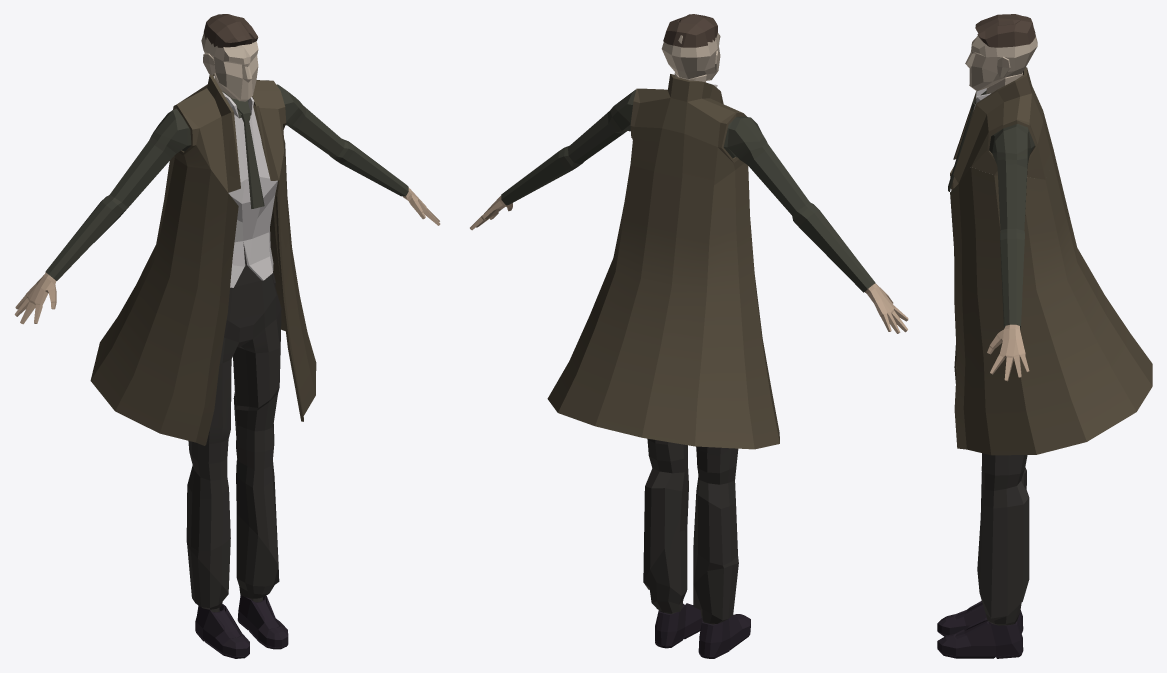
File: detective(lowpoly).fbx
The picture shows the model from 3 angles, left to right: view 1: azimuth 30°, elevation 25°; view 2: azimuth 150°, elevation 25°; view 3: azimuth 270°, elevation 25°; orthographic projection. The views are drawn at different scales.
Parts seen in each view (by area): view 1: polySurface7.001, polySurface3, pCube3, pCube1, pCube4, polySurface1; view 2: polySurface3, polySurface7.001, pCube3, pCube1, pCube4; view 3: polySurface3, polySurface7.001, pCube3, pCube1, pCube4.
Part boxes in pixels (left/top/right/bottom): polySurface7.001: left=14, top=74, right=440, bottom=612; polySurface3: left=90, top=143, right=316, bottom=445; pCube3: left=195, top=595, right=288, bottom=658; pCube1: left=201, top=33, right=258, bottom=101; pCube4: left=203, top=14, right=258, bottom=47; polySurface1: left=231, top=98, right=264, bottom=208; polySurface3: left=547, top=163, right=779, bottom=449; polySurface7.001: left=470, top=74, right=908, bottom=624; pCube3: left=655, top=603, right=750, bottom=658; pCube1: left=661, top=33, right=720, bottom=82; pCube4: left=663, top=14, right=717, bottom=47; polySurface3: left=950, top=150, right=1152, bottom=455; polySurface7.001: left=953, top=67, right=1053, bottom=625; pCube3: left=937, top=600, right=1023, bottom=658; pCube1: left=965, top=34, right=1037, bottom=93; pCube4: left=975, top=14, right=1035, bottom=47.
Bounding box in the file's own units: 137 × 191 × 59.49.
